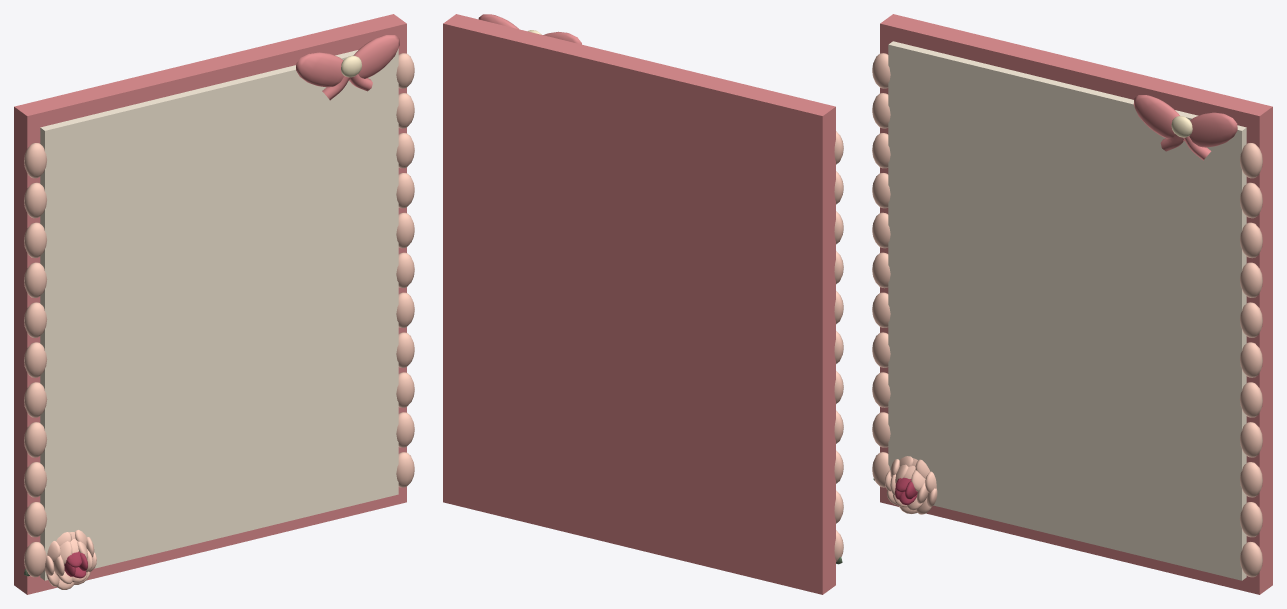
The model's file is frame-ribbon.glb.
The picture shows the model from 3 angles, left to right: view 1: azimuth 30°, elevation 25°; view 2: azimuth 150°, elevation 25°; view 3: azimuth 330°, elevation 25°; orthographic projection.
Visible parts, largest first — view 1: Rose ribbon frame; view 2: Rose ribbon frame; view 3: Rose ribbon frame.
Boxes of the visible parts, x1,y1,x2,y2 form: Rose ribbon frame: (14,14,414,594); Rose ribbon frame: (443,14,843,594); Rose ribbon frame: (872,14,1272,594).
Size of the model in its own units: 2.4 by 2.82 by 0.3179.
